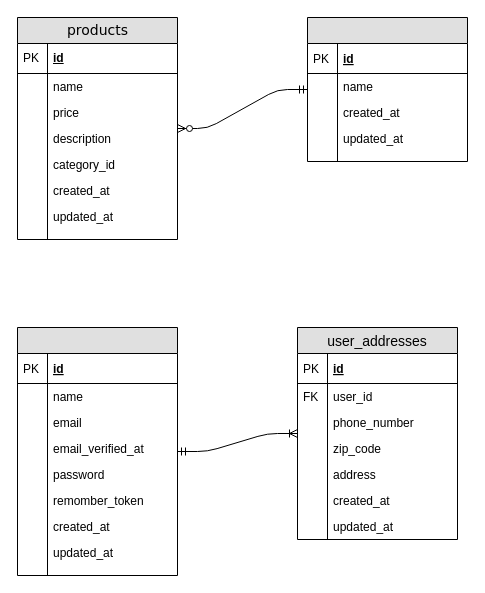
This 485x593 diagram has some shape labels left out. The box of each missing label's shape, as (x1, y1, x2, y2) in pixels:
categories: (306, 16, 468, 162)
users: (16, 326, 178, 576)
